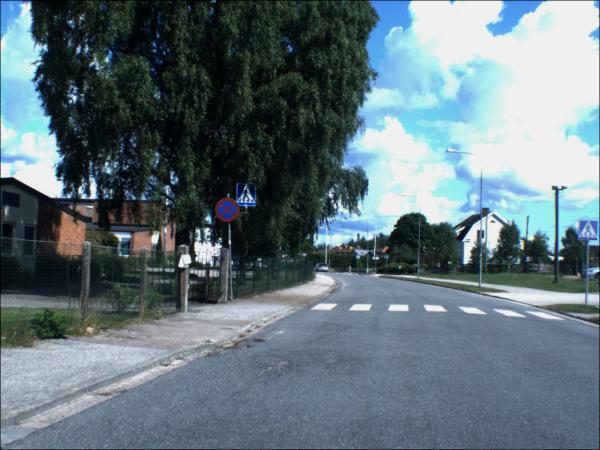NO_STOPPING_NO_STANDING: (215, 199, 239, 225)
PEDESTRIAN_CROSSING: (236, 185, 257, 209), (579, 222, 599, 242), (357, 256, 361, 260)
